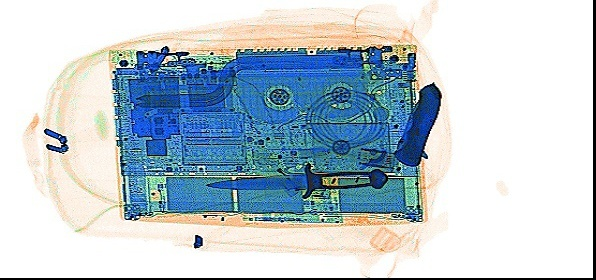knife: (202, 160, 387, 200), (391, 78, 443, 167)
